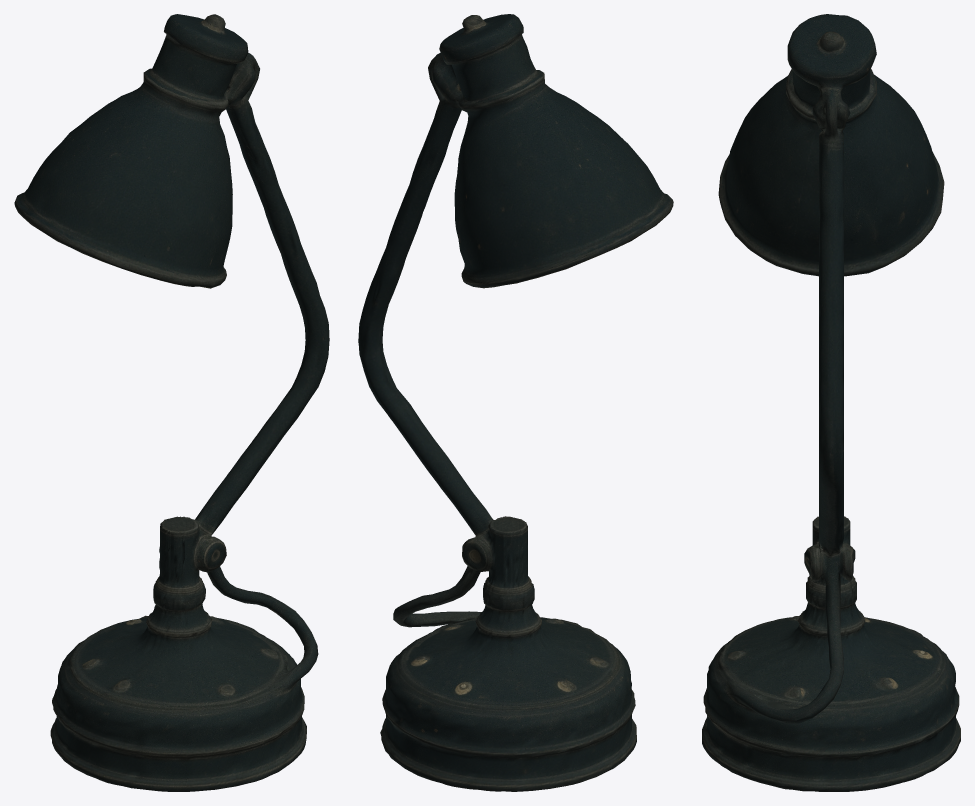
File: DeskLamp.fbx
3 views of the same model, side by side, from view 1: azimuth 30°, elevation 25°; view 2: azimuth 150°, elevation 25°; view 3: azimuth 270°, elevation 25° (orthographic).
Visible parts, largest first — view 1: mesh_node; view 2: mesh_node; view 3: mesh_node.
Part boxes in pixels (bbox=[...]): mesh_node: bbox=[14, 14, 329, 791]; mesh_node: bbox=[358, 14, 673, 791]; mesh_node: bbox=[702, 14, 960, 791].
Bounding box in the file's own units: 82.58 × 191 × 61.45.
1 material, 1 textured.
